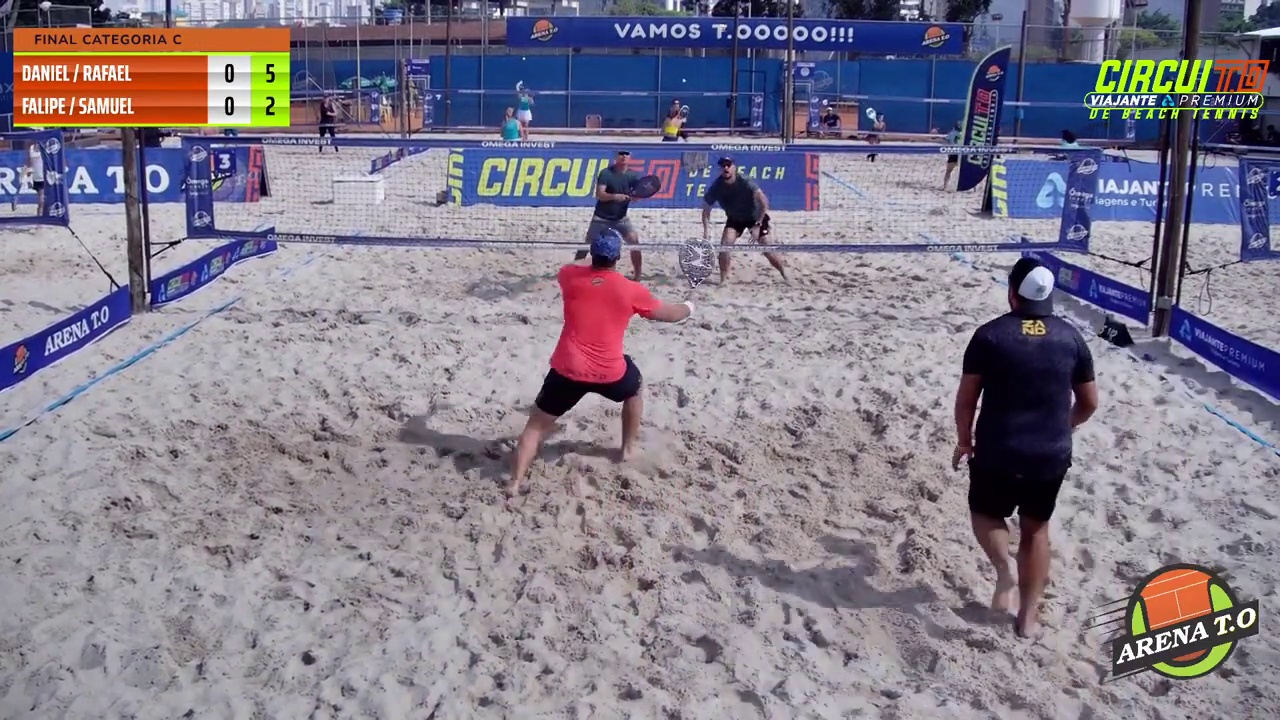court_line: (642, 0, 801, 528)
